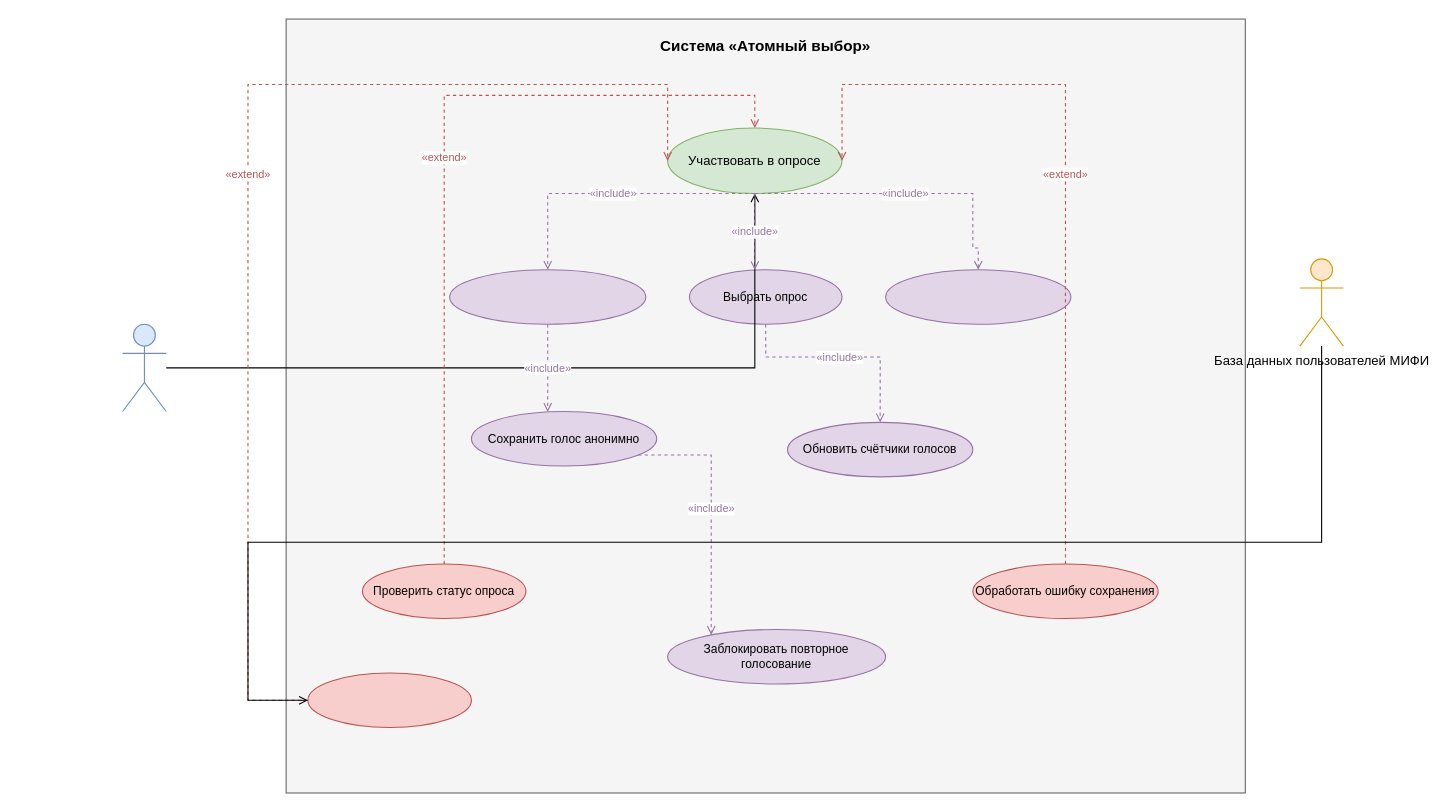
Image size: 1448x812. Some labels were removed from this diagram. The centre of each missing label's shape, as x and y in pixels:
"Выбрать вариант(ы) ответа" goes at point (978, 296).
"Пользователь (студент/сотрудник МИФИ)" goes at point (144, 367).
"Проверить право участия" goes at point (389, 700).
"Просмотреть список активных опросов" goes at point (547, 296).
